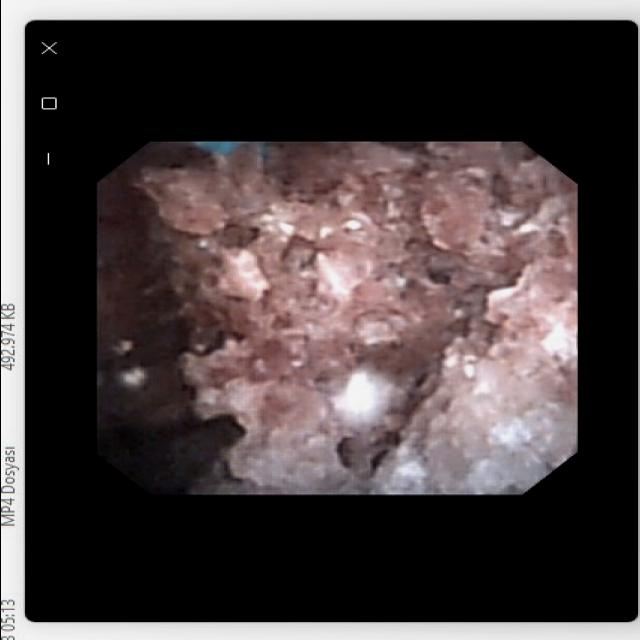stone: (132, 146, 570, 490)
